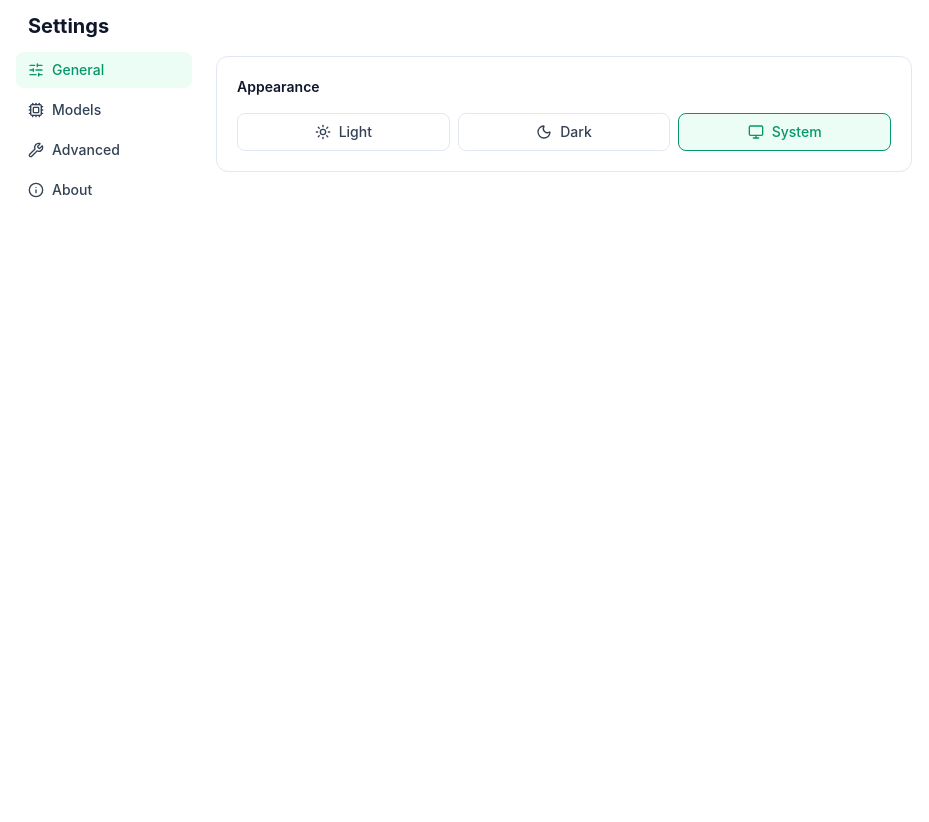
Test: Settings sections › Advanced → Stored keys › renders the empty state when there are no credentials
Click the button "Advanced": [104, 150] box [16,132,192,168]
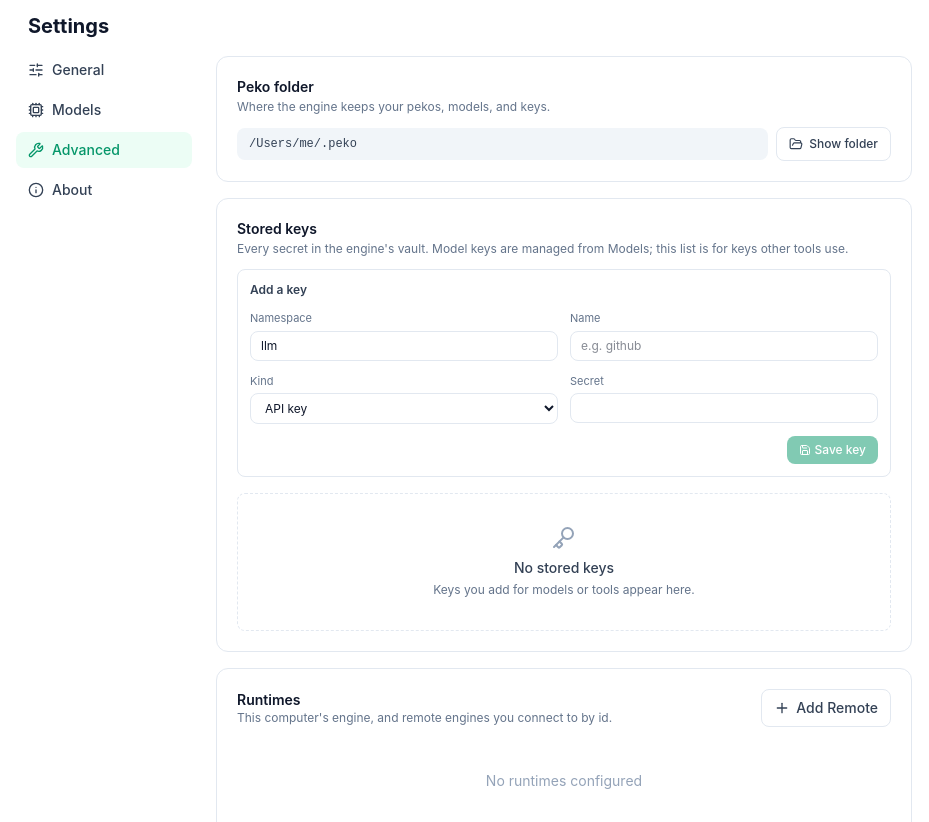
Expected: the element with test id "credentials-empty-state" is shown, [237,493,891,631]
